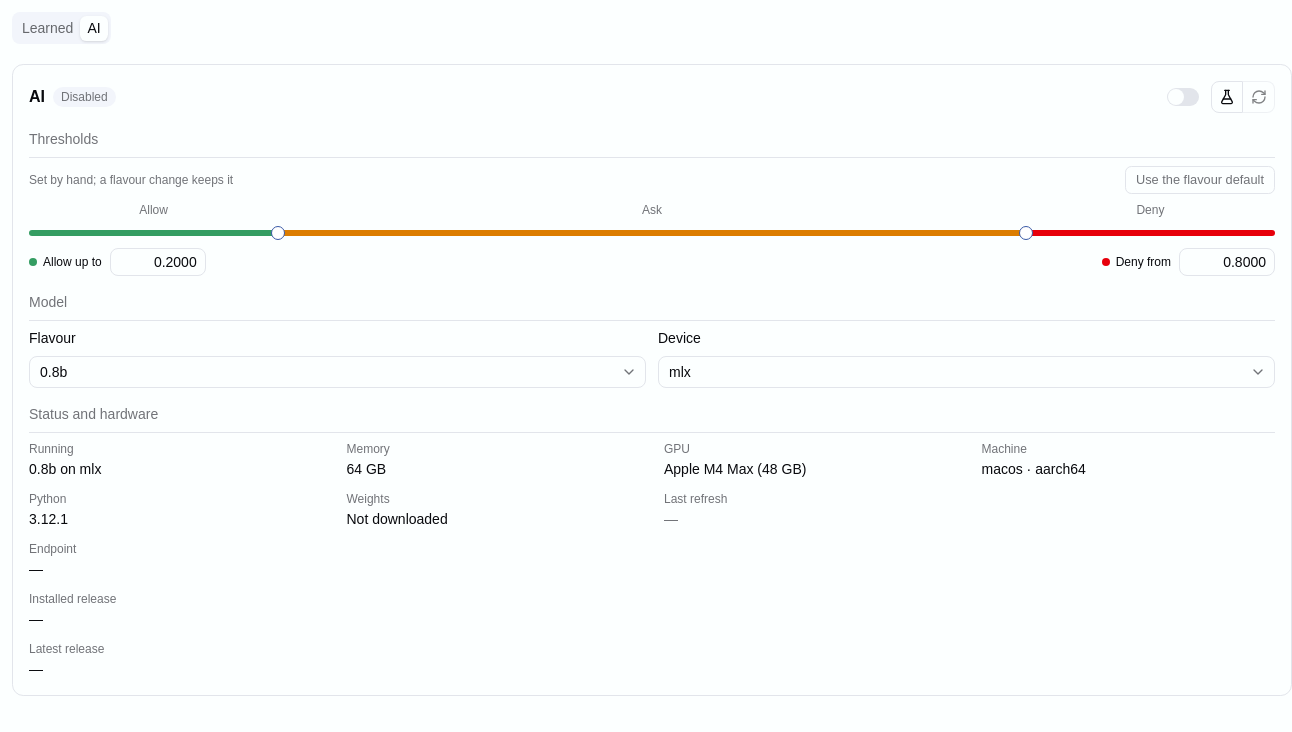
Test: the model pickers › disables an unavailable device and notes a slow one
Click the dropdown named "Device". click: click(680, 372)
box: [658,356,1275,388]
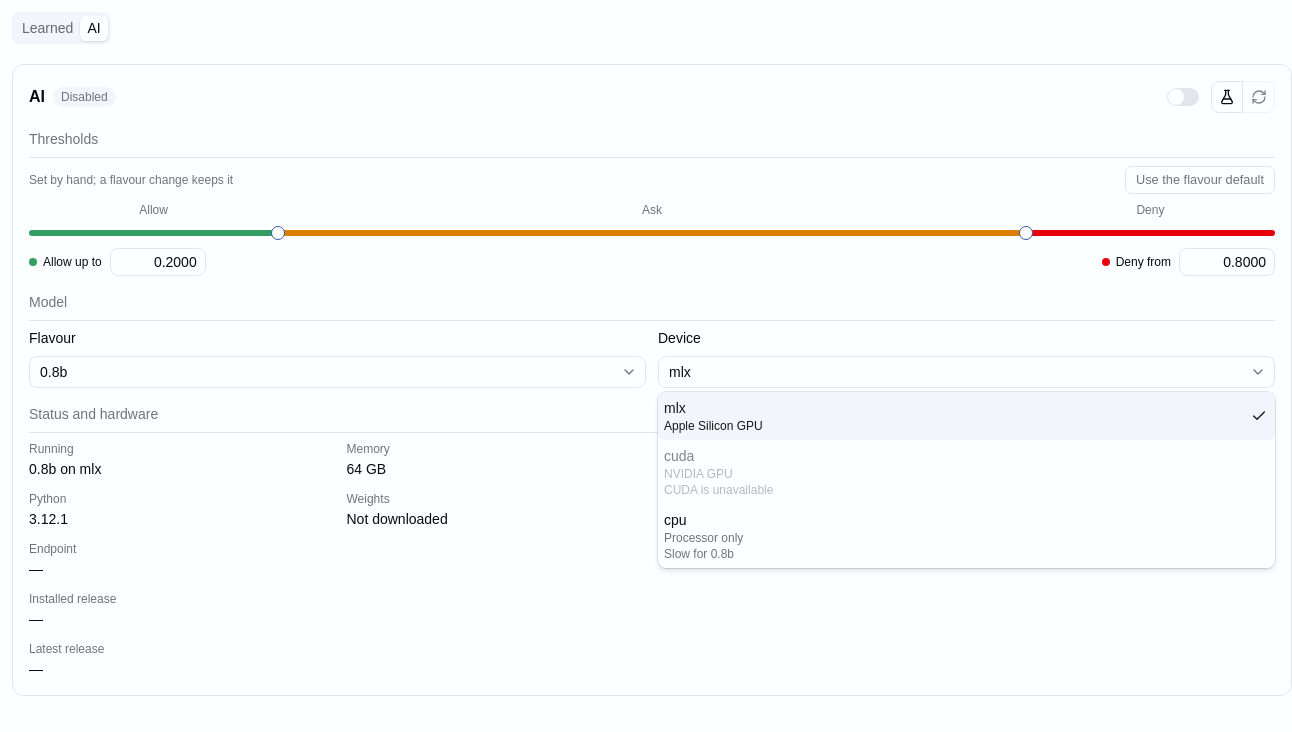
Expected: the option "cpu Processor only Slow for 0.8b" is shown, [664,512,743,561]
